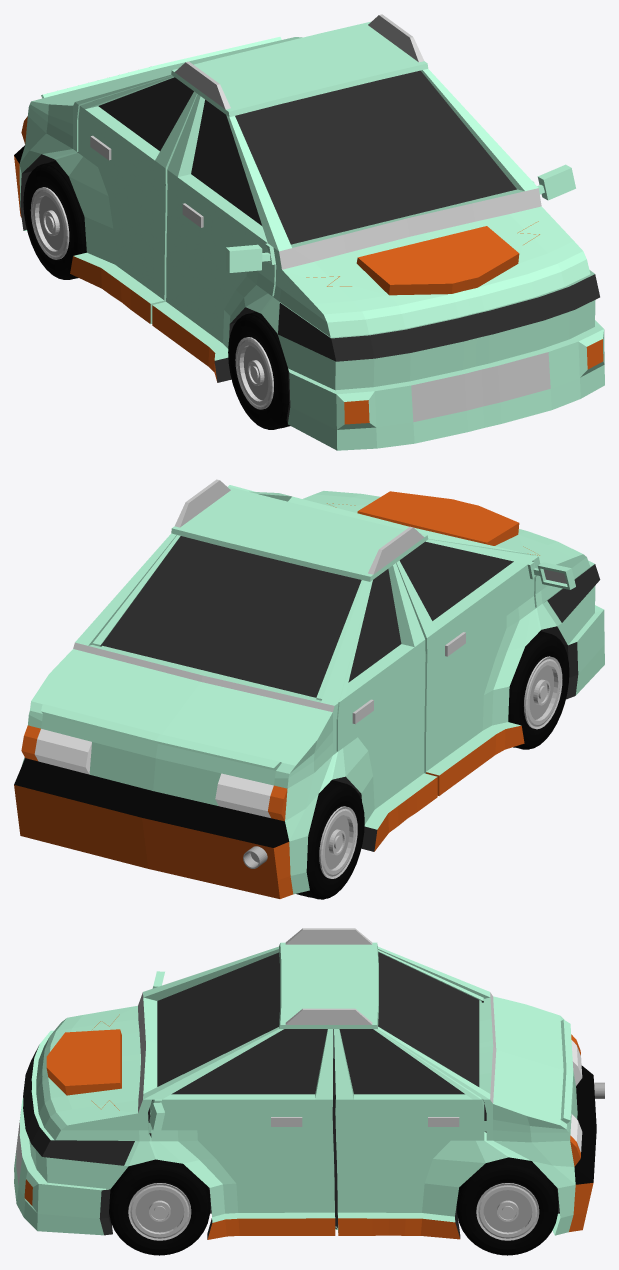
3 renders of one model, top to bottom at view 1: azimuth 30°, elevation 25°; view 2: azimuth 150°, elevation 25°; view 3: azimuth 270°, elevation 25°, orthographic. The views are drawn at different scales.
Visible parts, largest first — view 1: BODY32B, WHEEL.001, WHEEL.004; view 2: BODY32B, WHEEL.004, WHEEL.001; view 3: BODY32B, WHEEL.002, WHEEL.003.
Part boxes in pixels (box(x1,y1,x2,y2)): BODY32B: box(14, 14, 604, 450); WHEEL.001: box(228, 311, 290, 429); WHEEL.004: box(23, 160, 86, 279); BODY32B: box(14, 479, 604, 898); WHEEL.004: box(296, 780, 364, 899); WHEEL.001: box(508, 631, 569, 749); BODY32B: box(14, 928, 596, 1239); WHEEL.002: box(456, 1157, 558, 1255); WHEEL.003: box(109, 1159, 210, 1255).
Size of the model in its own units: 131 by 97.36 by 227.
